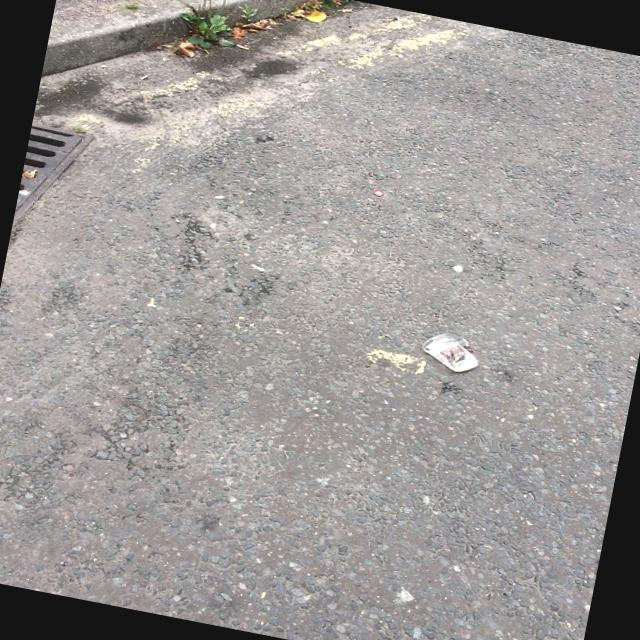Recycle: (416, 328, 496, 382)
